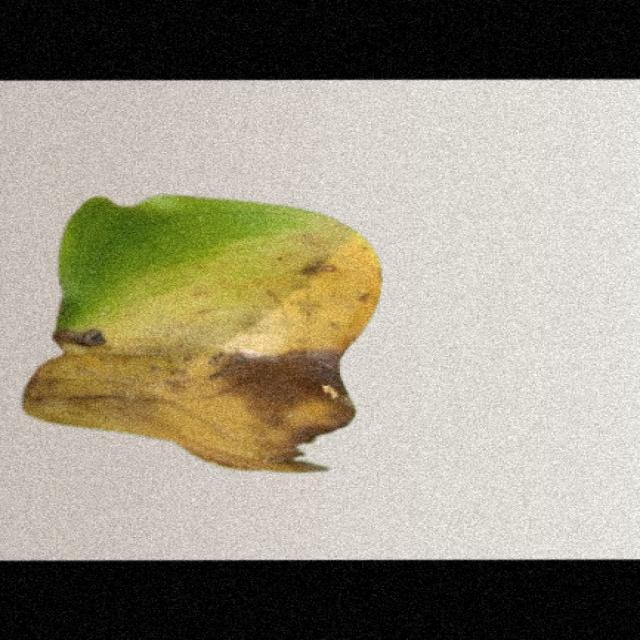daun berpenyakit kuning: (24, 197, 382, 472)
